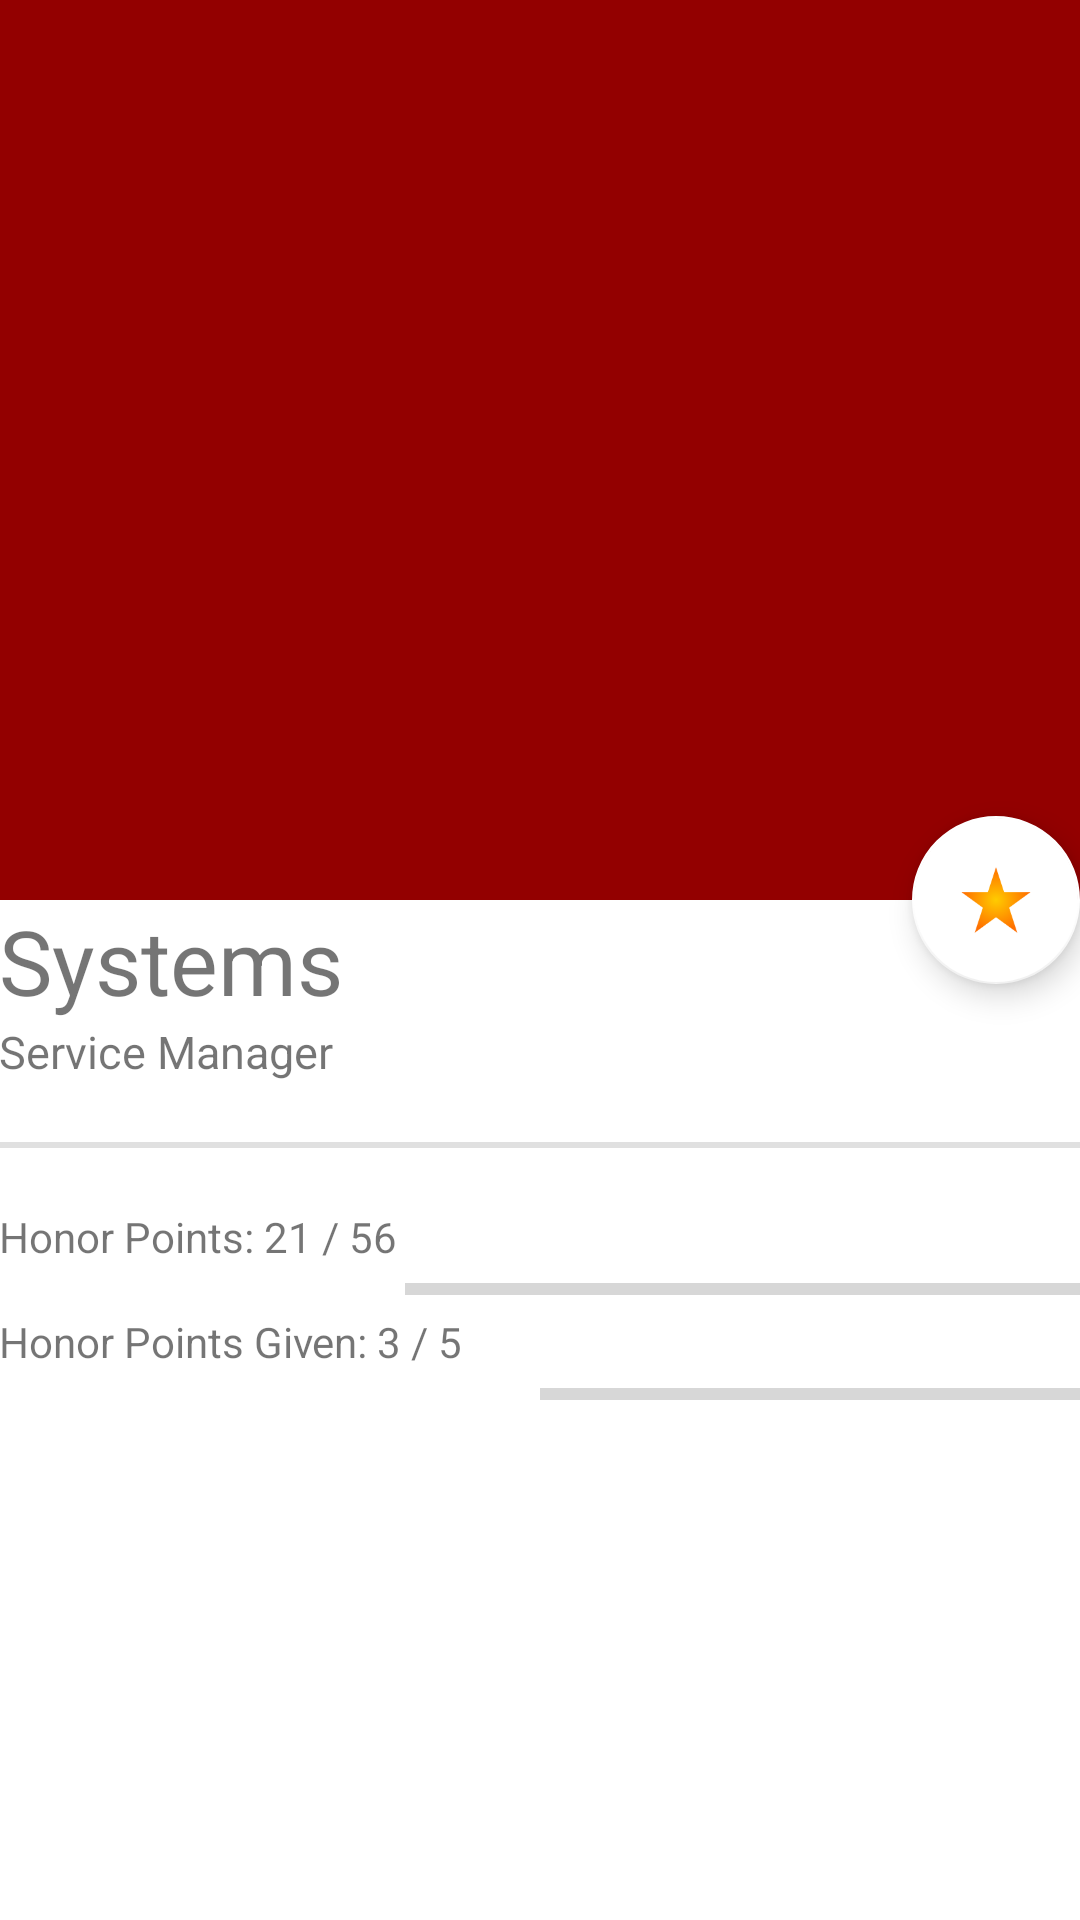

Point at icon controls on the screen. Image size 1080 × 1920, points as (x=x, y=y).
star: (x=996, y=900)
